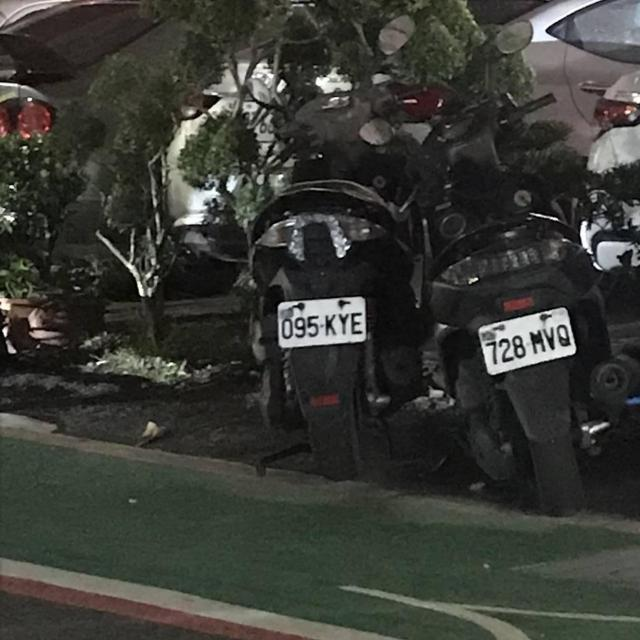W: (472, 301, 583, 377), (273, 290, 374, 352)
